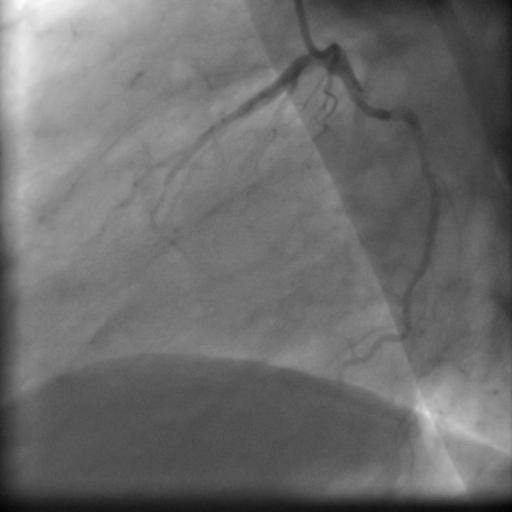Stenosis: (381, 96, 408, 132)
